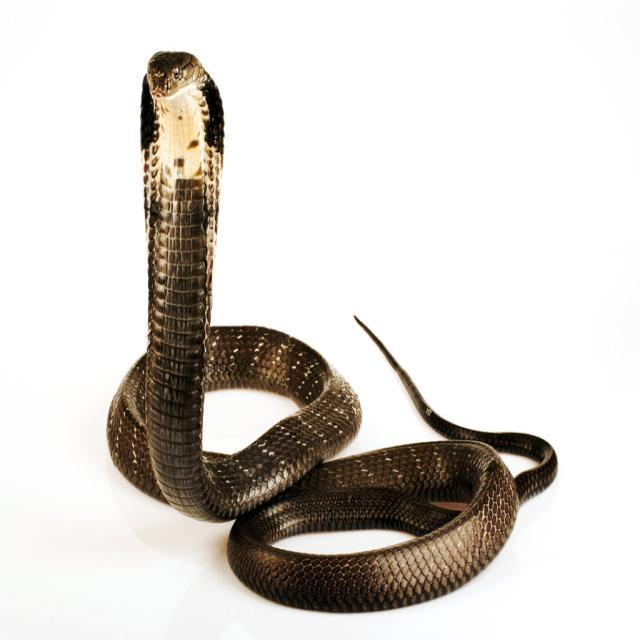Snake: (106, 49, 558, 613)
